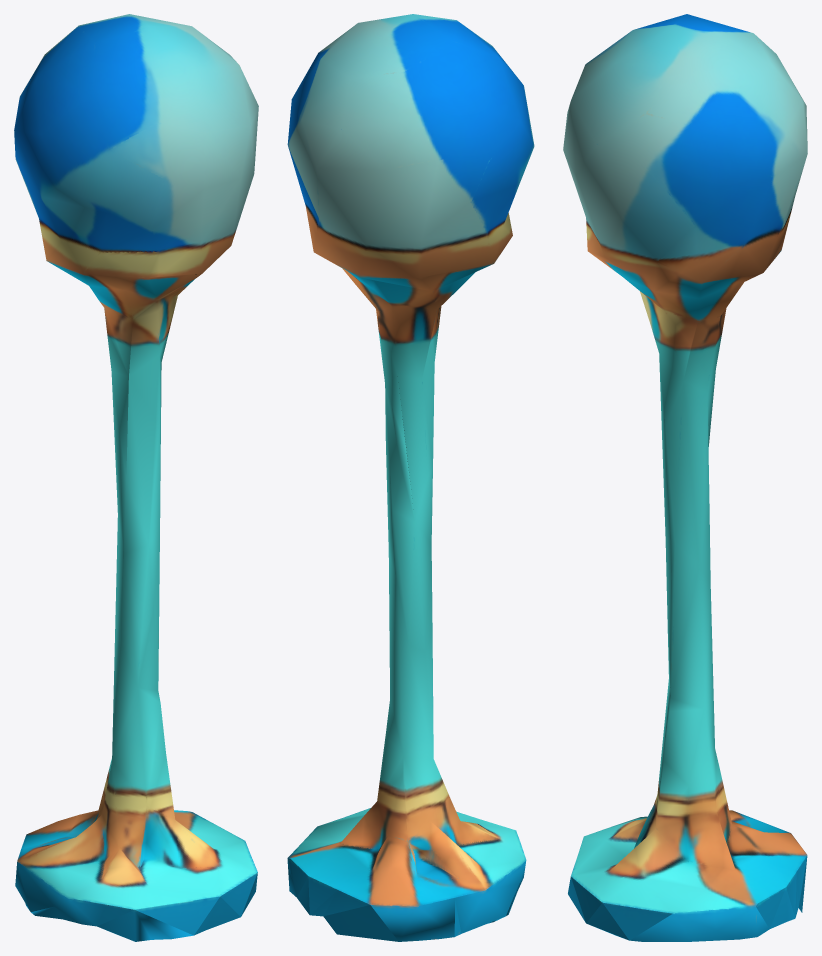
Rendered from seavilla-glass-orb-lamp.glb.
3 renders of one model, left to right at view 1: azimuth 30°, elevation 25°; view 2: azimuth 150°, elevation 25°; view 3: azimuth 270°, elevation 25°, orthographic.
Parts seen in each view (by area): view 1: geometry_0.001; view 2: geometry_0.001; view 3: geometry_0.001.
Part boxes in pixels (x1,y1,x2,y2): geometry_0.001: (14, 14, 258, 941); geometry_0.001: (287, 14, 534, 941); geometry_0.001: (563, 14, 807, 941).
Size of the model in its own units: 0.2488 by 0.9995 by 0.2518.
Materials: 1 (1 with a texture image).
